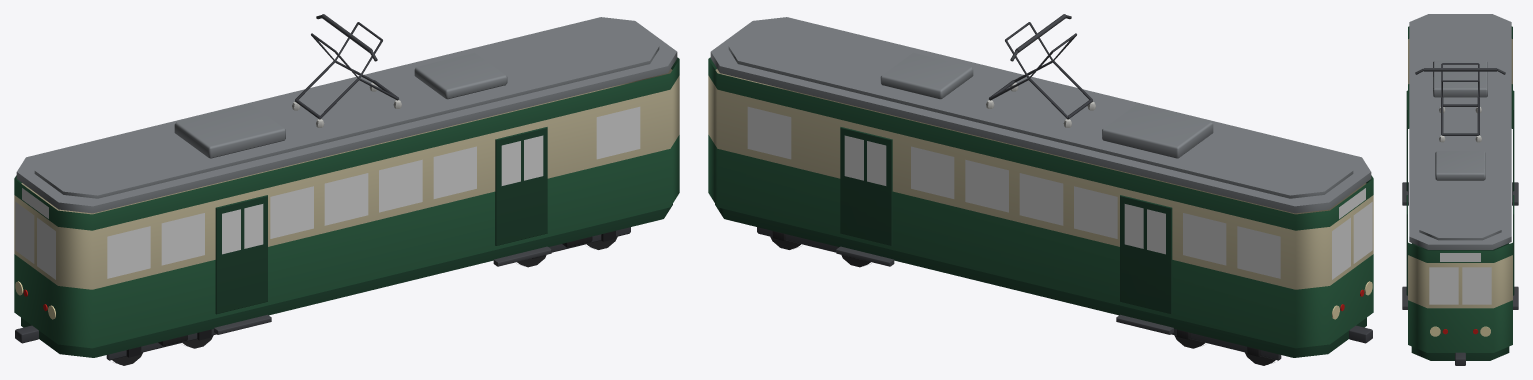
File: TramKM.fbx
3 renders of one model, left to right at view 1: azimuth 30°, elevation 25°; view 2: azimuth 150°, elevation 25°; view 3: azimuth 270°, elevation 25°, orthographic. The views are drawn at different scales.
Parts seen in each view (by area): view 1: TramKM; view 2: TramKM; view 3: TramKM.
Part boxes in pixels (x1=…): TramKM: x1=14, y1=14, x2=679, y2=365; TramKM: x1=708, y1=14, x2=1373, y2=365; TramKM: x1=1402, y1=14, x2=1518, y2=365.
Size of the model in its own units: 12.7 by 4.85 by 2.54.
